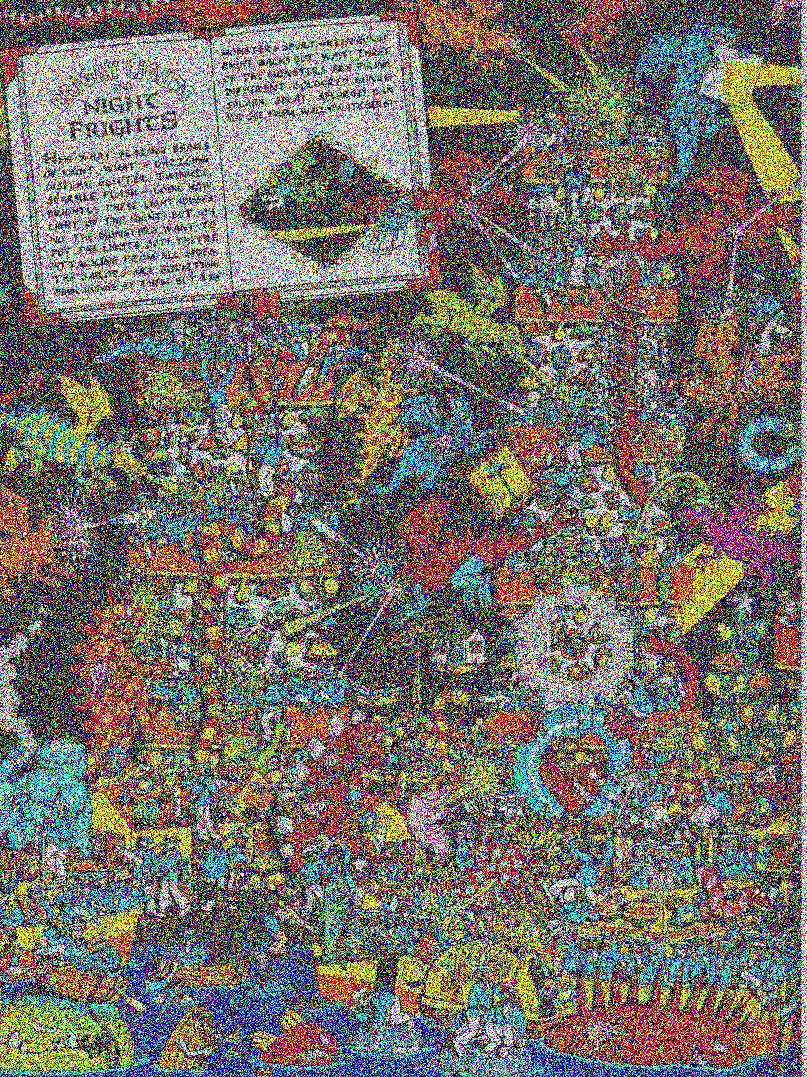waldos: (515, 672, 528, 693)
